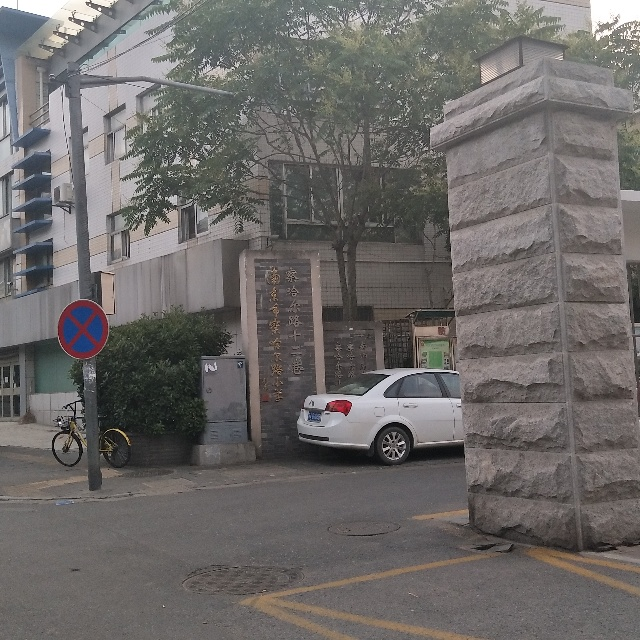stop: (54, 299, 111, 363)
